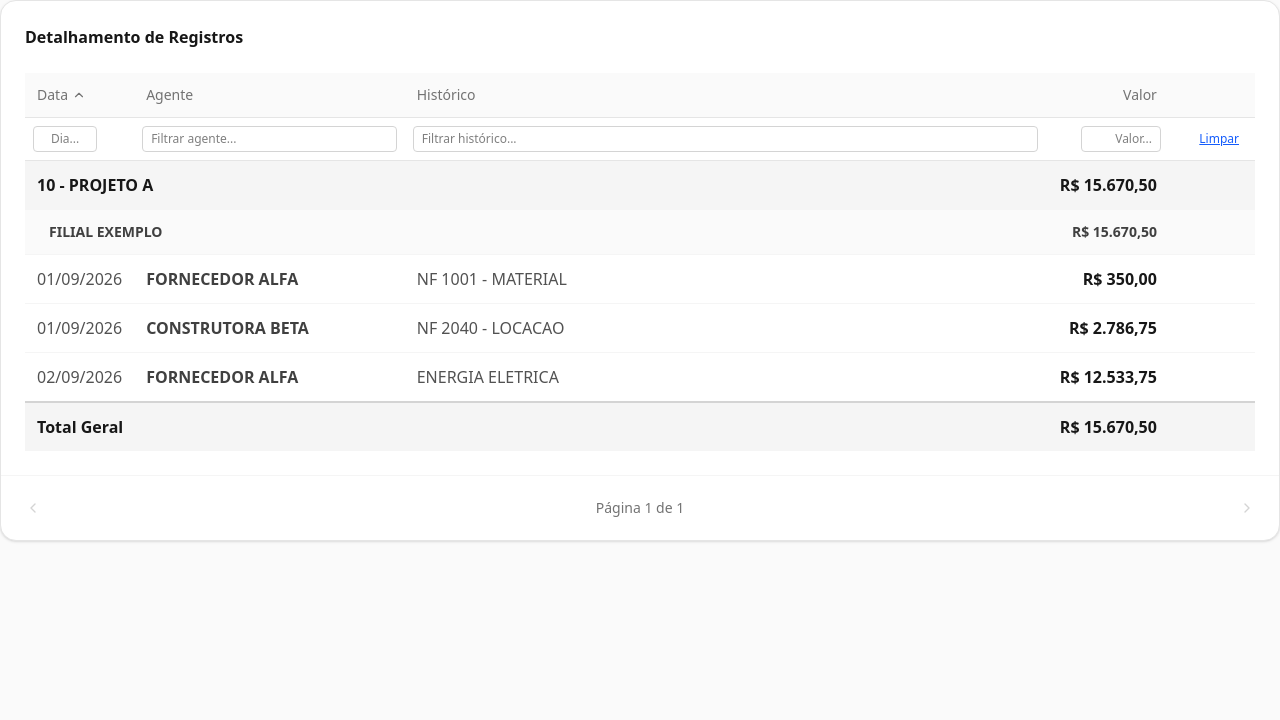
it: Tabela de Detalhamento (DetalhamentoTable) › Filtros de coluna › deve restaurar todos os registros ao clicar em "Limpar"
The image size is (1280, 720).
Type "beta" into the field with placeholder "Filtrar agente..." at coordinates (269, 139), box [142,126,397,152]
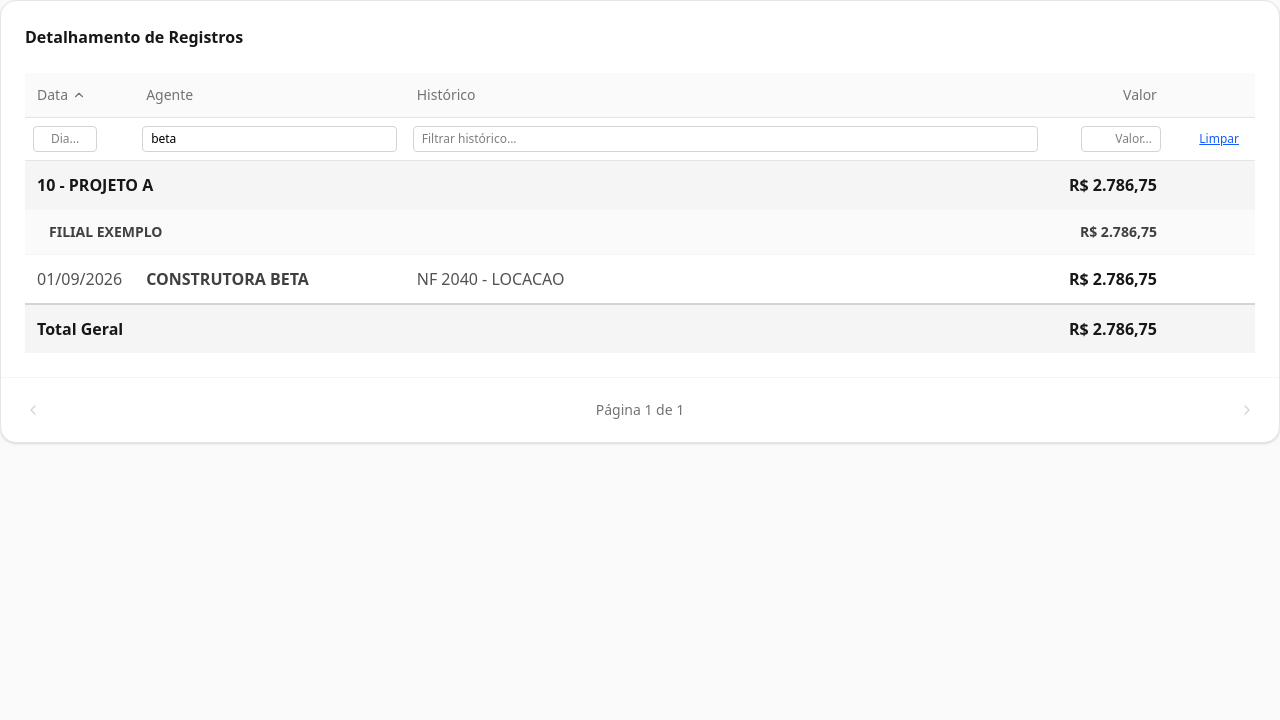
Click the button titled "Limpar Filtros" at coordinates (1219, 139), box [1191,127,1247,151]
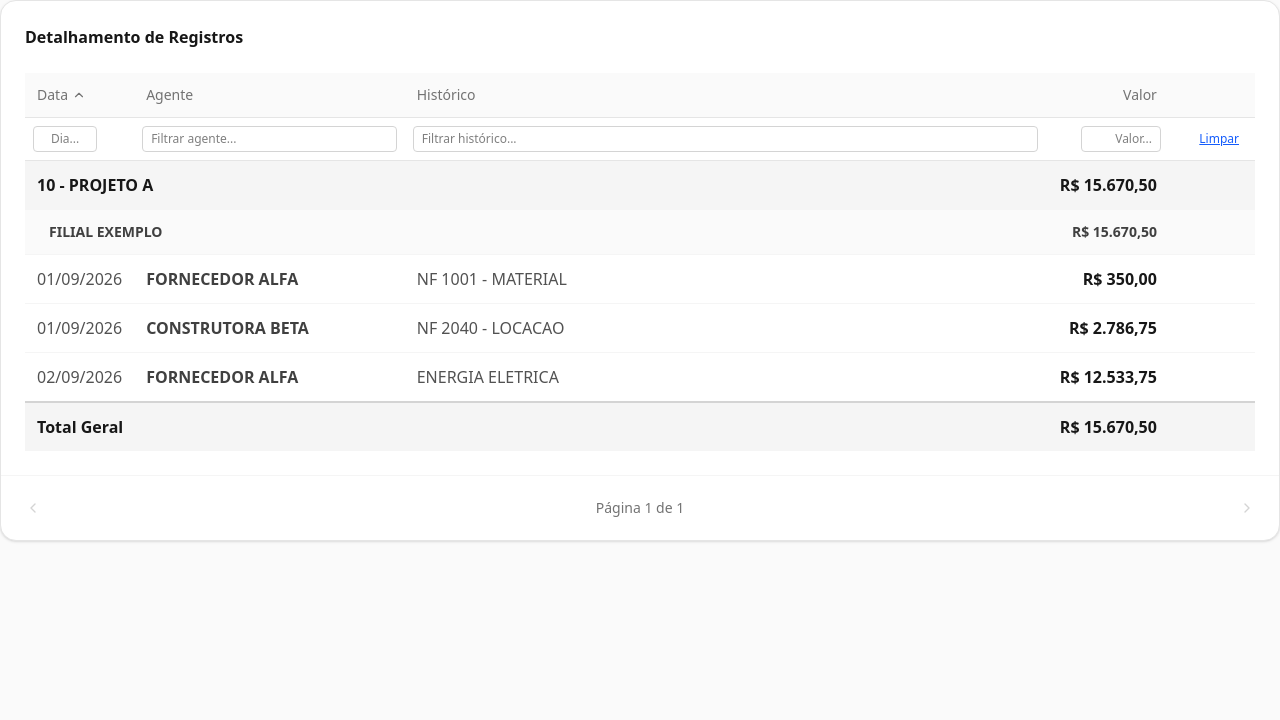
Expected: the field with placeholder "Filtrar agente..." is empty, [142,126,397,152]
